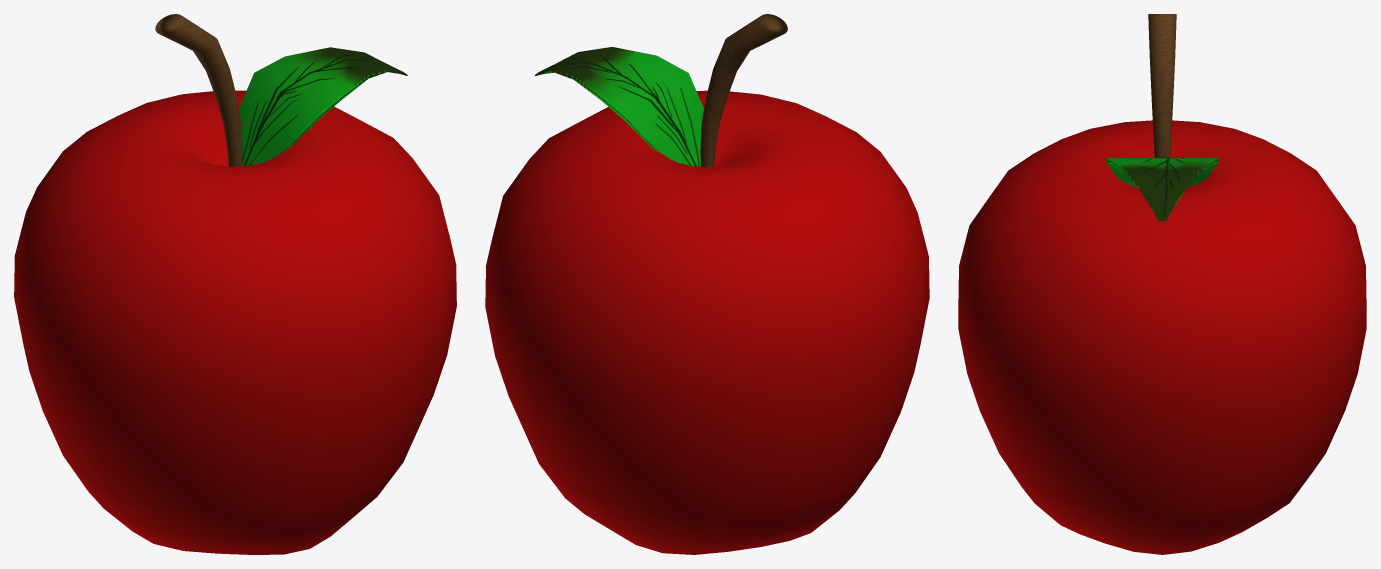
The model's file is ITM_DEFENSIVE_APPLE.fbx.
3 renders of one model, left to right at view 1: azimuth 30°, elevation 25°; view 2: azimuth 150°, elevation 25°; view 3: azimuth 270°, elevation 25°, orthographic. The views are drawn at different scales.
Parts seen in each view (by area): view 1: Apple, apple_leaf; view 2: Apple, apple_leaf; view 3: Apple, apple_leaf.
Part boxes in pixels (x1,y1,x2,y2): Apple: (14, 14, 456, 554); apple_leaf: (239, 47, 407, 166); Apple: (485, 14, 929, 554); apple_leaf: (535, 47, 703, 166); Apple: (958, 14, 1366, 554); apple_leaf: (1106, 157, 1218, 221).
Bounding box in the file's own units: 42.09 × 54.28 × 41.65.
